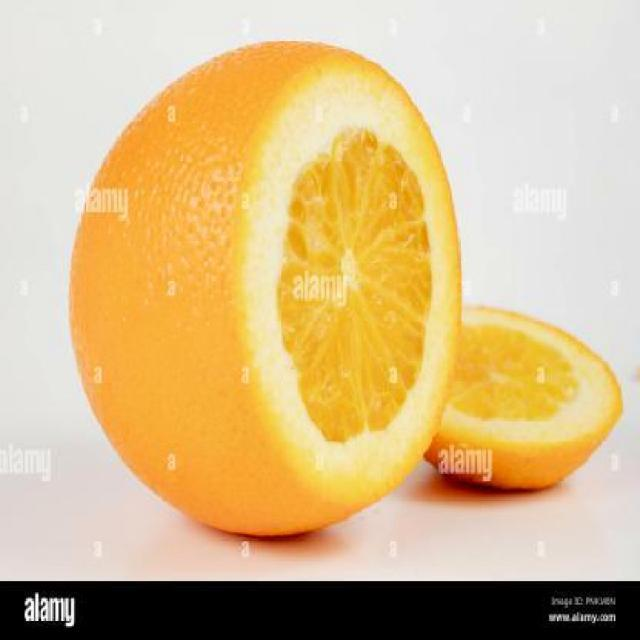Jeruk Sudah Matang: (69, 38, 458, 540)
